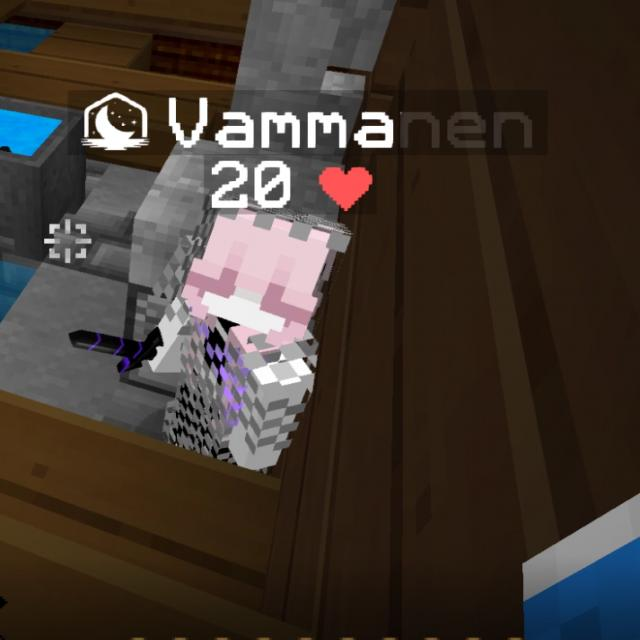Player: (130, 191, 352, 467)
